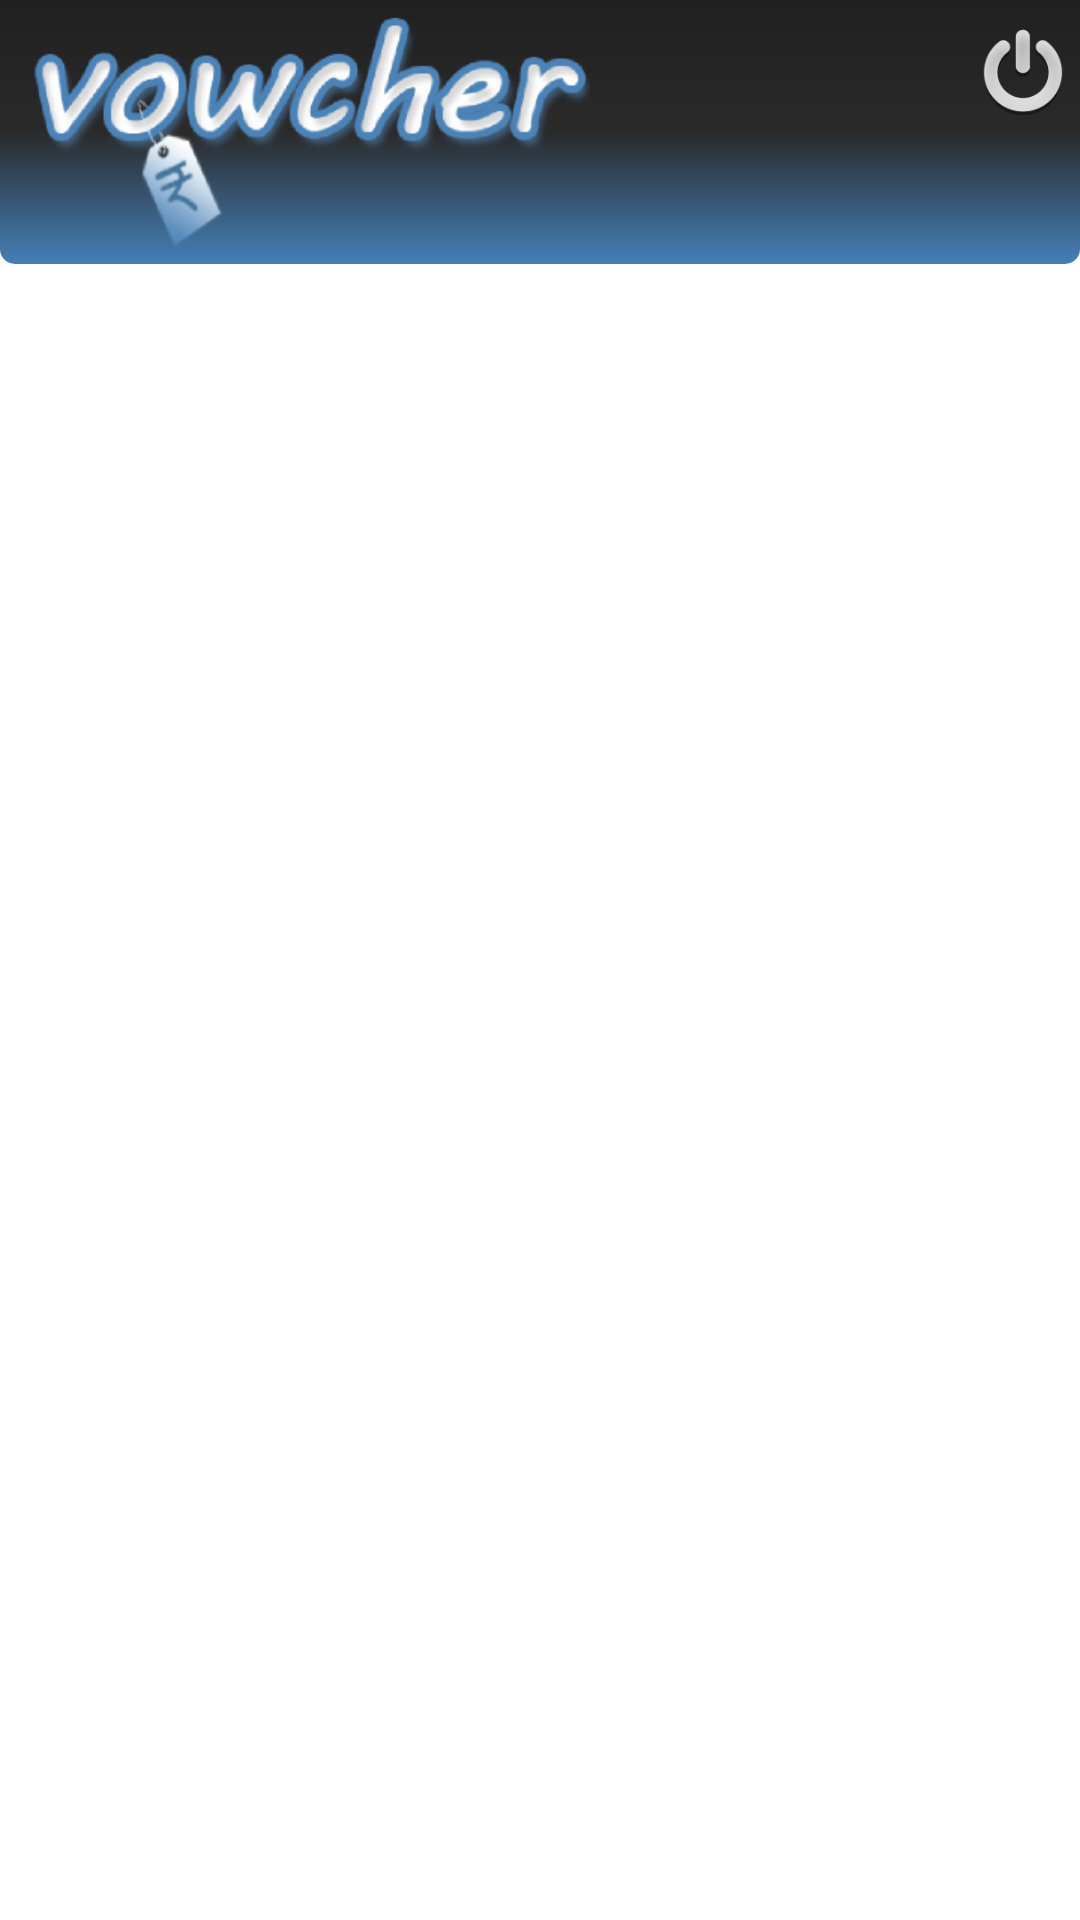

Locate icon controls on the screen. Image size 1080w x 1920h, boxes as {"left": x1, "top": y1, "right": x2, "bottom": y2}.
signout: {"left": 983, "top": 29, "right": 1062, "bottom": 112}
